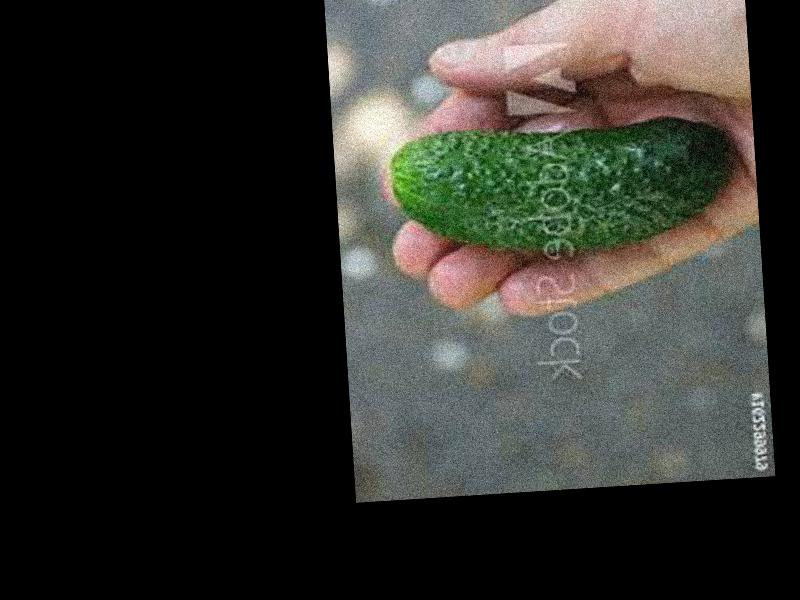Cucumber: (390, 114, 735, 265)
